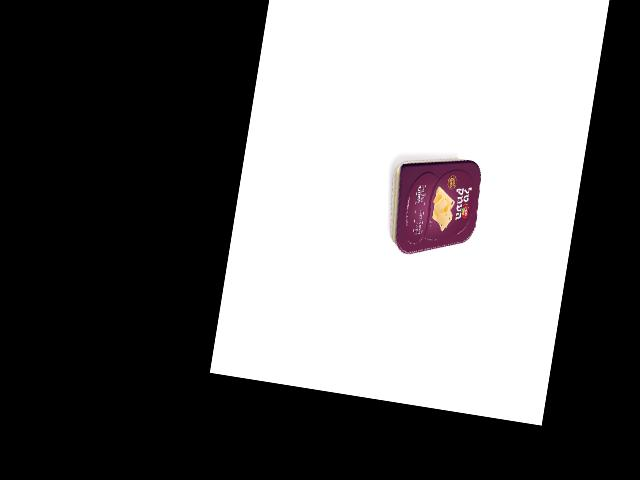cheese: (381, 148, 486, 264)
